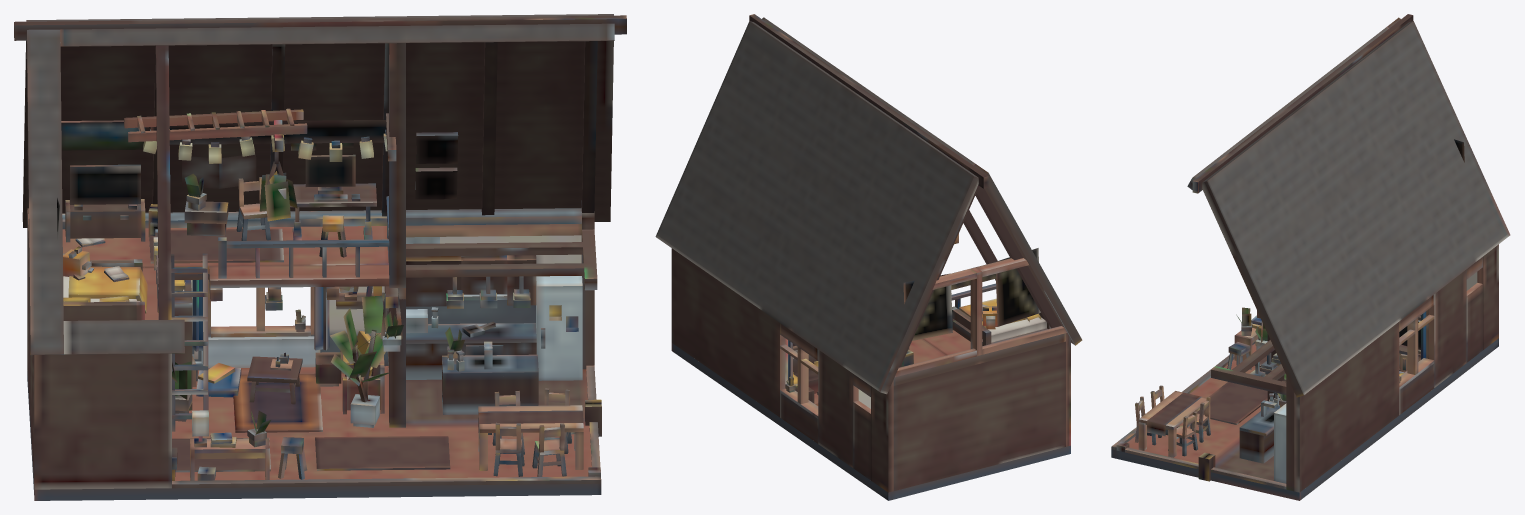
File: room_old_mansion.glb
3 views of the same model, side by side, from view 1: azimuth 30°, elevation 25°; view 2: azimuth 150°, elevation 25°; view 3: azimuth 270°, elevation 25° (orthographic). The views are drawn at different scales.
Visible parts, largest first — view 1: cozy_house.png__geom; view 2: cozy_house.png__geom; view 3: cozy_house.png__geom.
Part boxes in pixels (bbox=[...]): cozy_house.png__geom: bbox=[14, 14, 626, 500]; cozy_house.png__geom: bbox=[655, 14, 1082, 500]; cozy_house.png__geom: bbox=[1111, 14, 1510, 500].
Size of the model in its own units: 211 by 144 by 171.
1 material, 1 textured.
